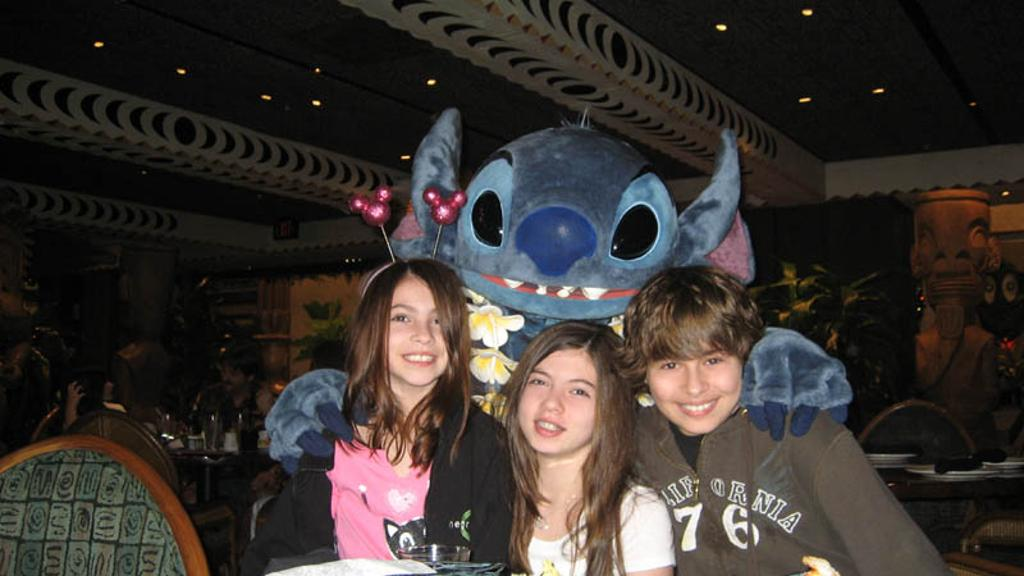face: (647, 333, 745, 433), (516, 351, 604, 452), (382, 279, 453, 384), (222, 363, 248, 391), (987, 243, 1001, 265)
